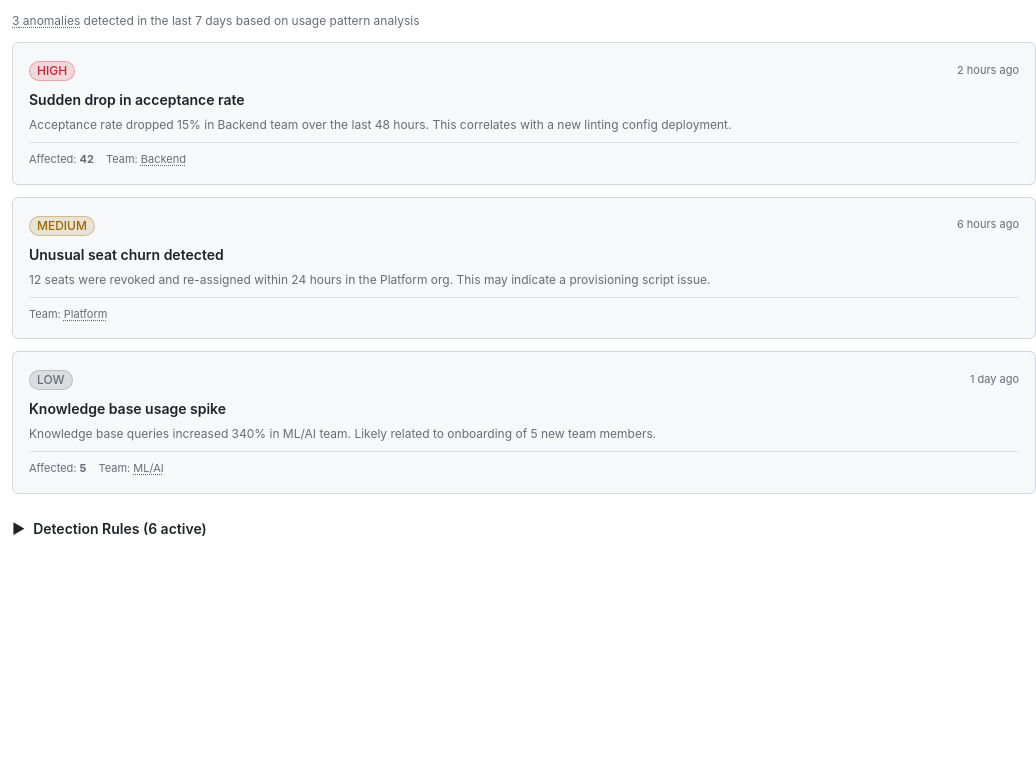
it: AnomaliesPane clickable stats › clears filter when clicking the clear link
The image size is (1036, 780).
Click the button "MEDIUM".
click(62, 224)  # box x1=29 y1=214 x2=95 y2=236
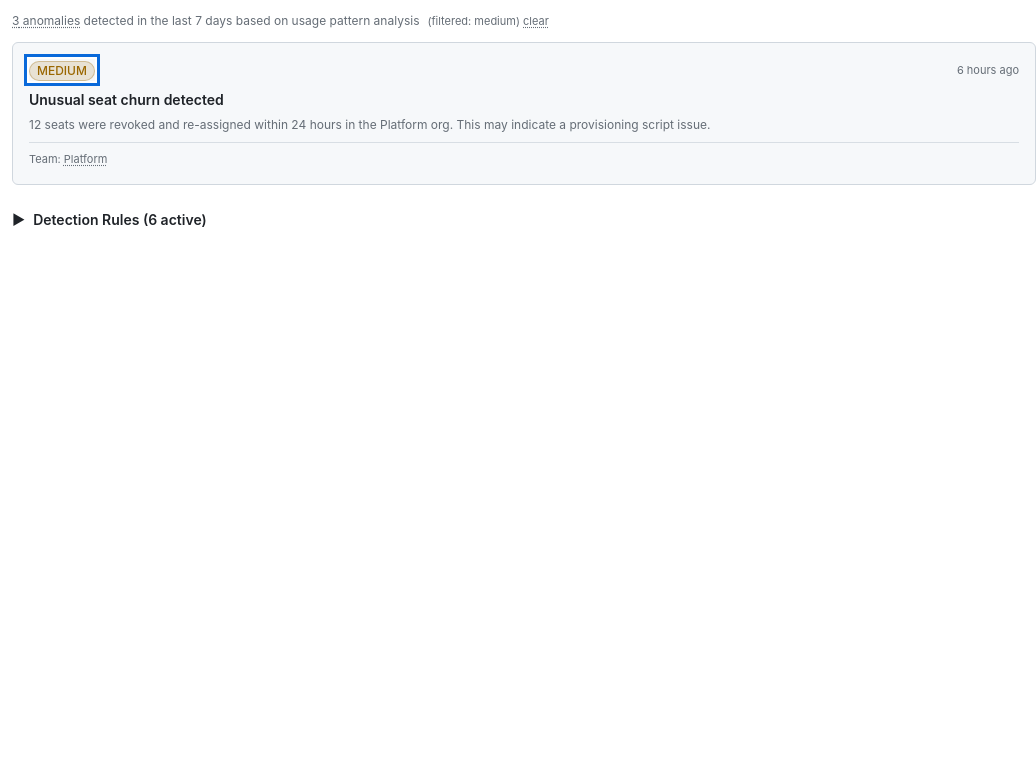
Expected: the text "(filtered: medium) clear" is shown, x1=428 y1=14 x2=549 y2=28
Click the button "clear".
click(536, 21)  # box x1=523 y1=14 x2=549 y2=28
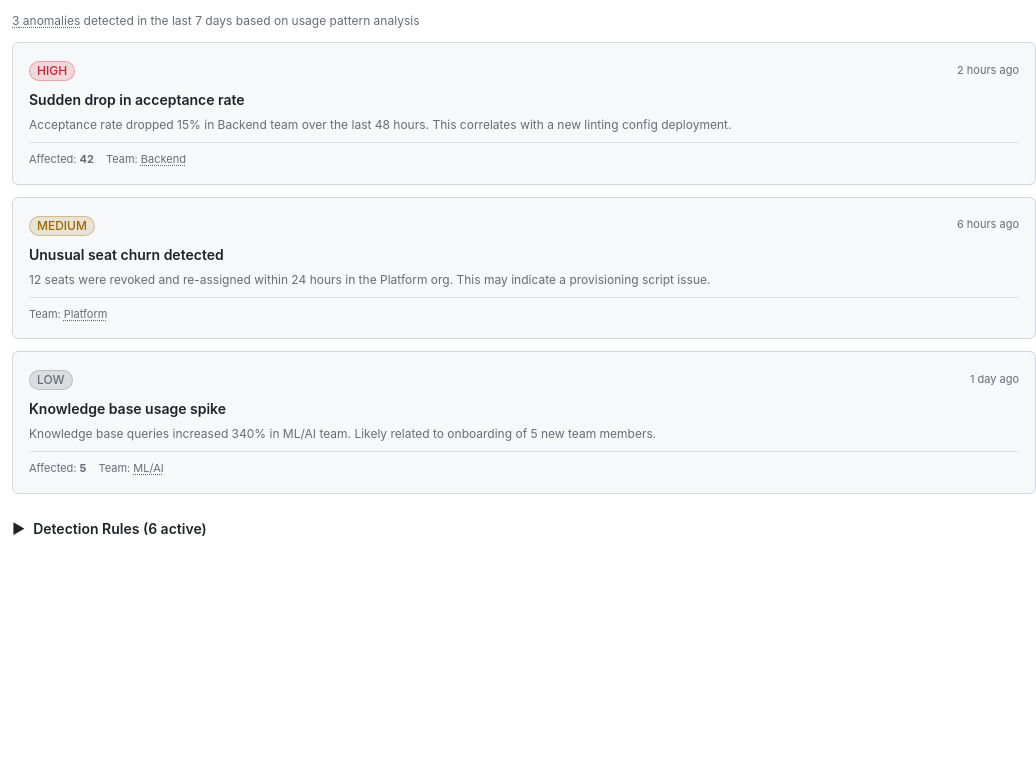
Expected: the text "filtered:" is gone
